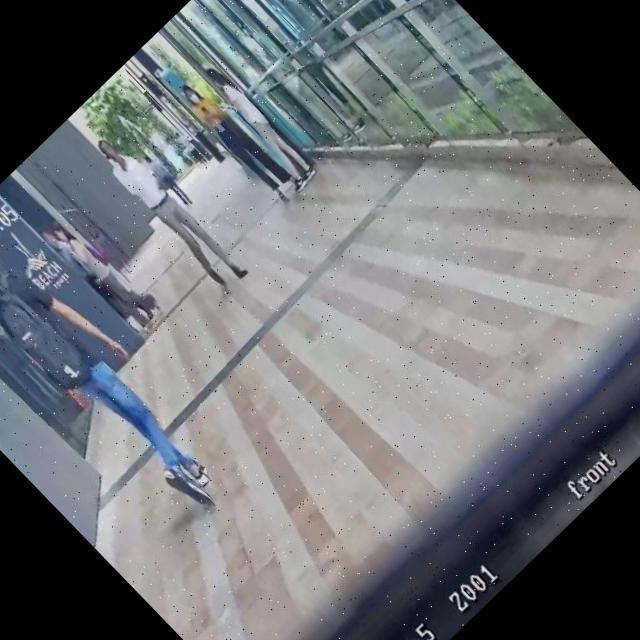person: (0, 208, 243, 522), (88, 127, 252, 294), (174, 74, 302, 206), (195, 62, 320, 190), (40, 223, 152, 338), (51, 216, 159, 327), (139, 149, 196, 208), (173, 130, 210, 168)
